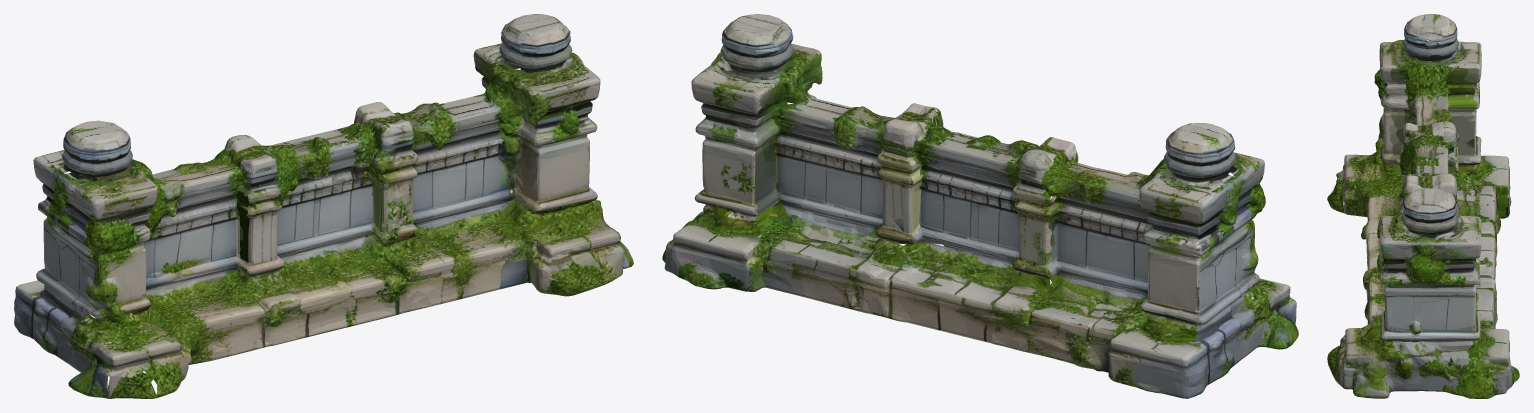
File: weathered-granite-wall-straight-optimized.glb
3 renders of one model, left to right at view 1: azimuth 30°, elevation 25°; view 2: azimuth 150°, elevation 25°; view 3: azimuth 270°, elevation 25°, orthographic. The views are drawn at different scales.
Visible parts, largest first — view 1: 5cbc6502-d9ff-41df-a9d2-ccbbc1ae00a1_texturing.obj; view 2: 5cbc6502-d9ff-41df-a9d2-ccbbc1ae00a1_texturing.obj; view 3: 5cbc6502-d9ff-41df-a9d2-ccbbc1ae00a1_texturing.obj.
Boxes of the visible parts, x1,y1,x2,y2 form: 5cbc6502-d9ff-41df-a9d2-ccbbc1ae00a1_texturing.obj: (14,14,633,398); 5cbc6502-d9ff-41df-a9d2-ccbbc1ae00a1_texturing.obj: (662,14,1298,398); 5cbc6502-d9ff-41df-a9d2-ccbbc1ae00a1_texturing.obj: (1327,14,1519,398).
Size of the model in its own units: 4 by 1.53 by 1.48.
1 material, 1 textured.
